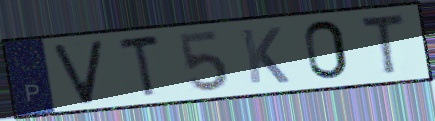0: (301, 18, 352, 83)
5: (175, 28, 231, 94)
K: (238, 25, 293, 86)
T: (358, 11, 408, 77), (116, 32, 163, 102)
V: (50, 37, 105, 107)
